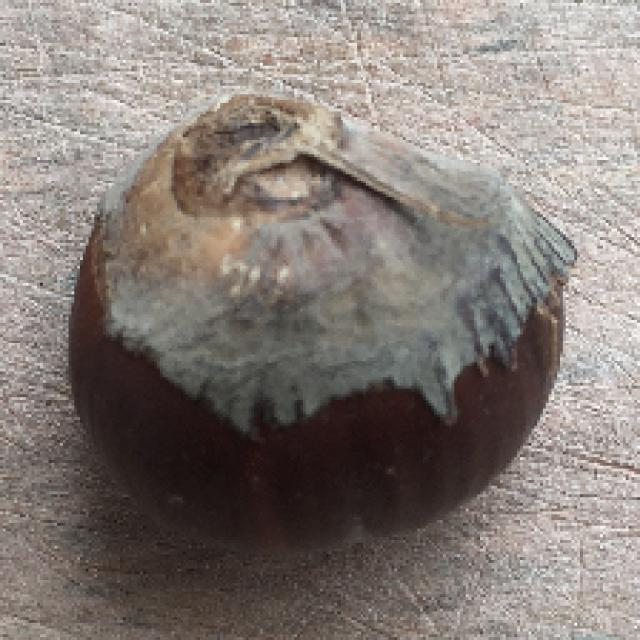damagedHazelnut: (65, 90, 582, 555)
